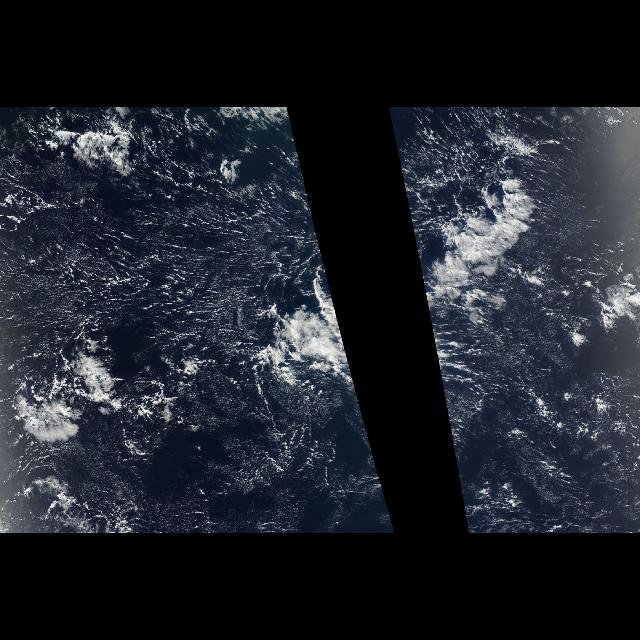Gravel: (1, 323, 198, 532)
Sugar: (1, 159, 300, 461), (521, 185, 637, 382), (540, 416, 640, 532)
